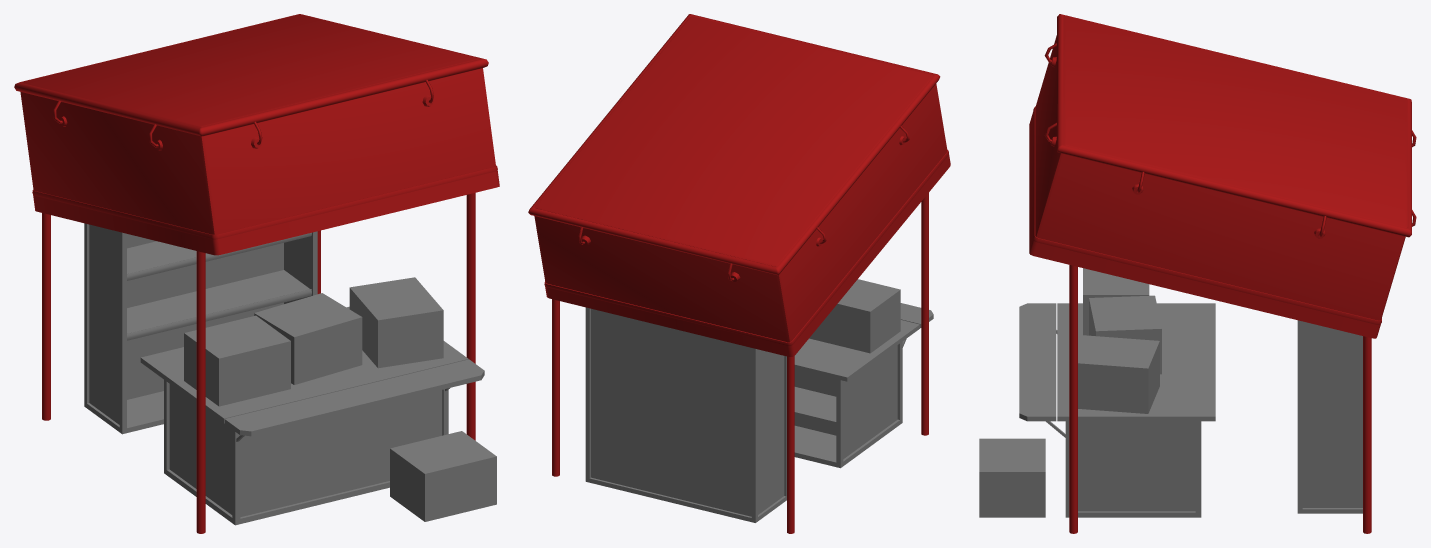
Rendered from SM_yatai_cartons.fbx.
The picture shows the model from 3 angles, left to right: view 1: azimuth 30°, elevation 25°; view 2: azimuth 150°, elevation 25°; view 3: azimuth 270°, elevation 25°; orthographic projection. The views are drawn at different scales.
Visible parts, largest first — view 1: Box487; view 2: Box487; view 3: Box487.
Part boxes in pixels (<box>): Box487: <box>14,14,499,533</box>; Box487: <box>528,14,950,533</box>; Box487: <box>979,14,1416,533</box>.
Size of the model in its own units: 111 by 143 by 145.
